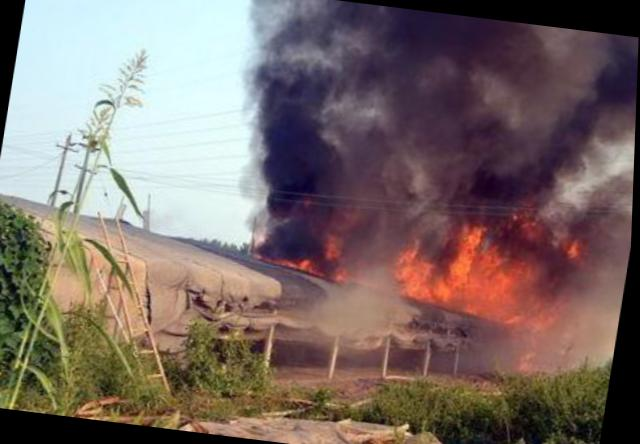fire: (428, 248, 541, 319), (394, 239, 437, 297), (450, 219, 483, 281), (258, 252, 311, 267), (567, 237, 591, 266), (320, 227, 343, 256), (480, 235, 497, 257)
